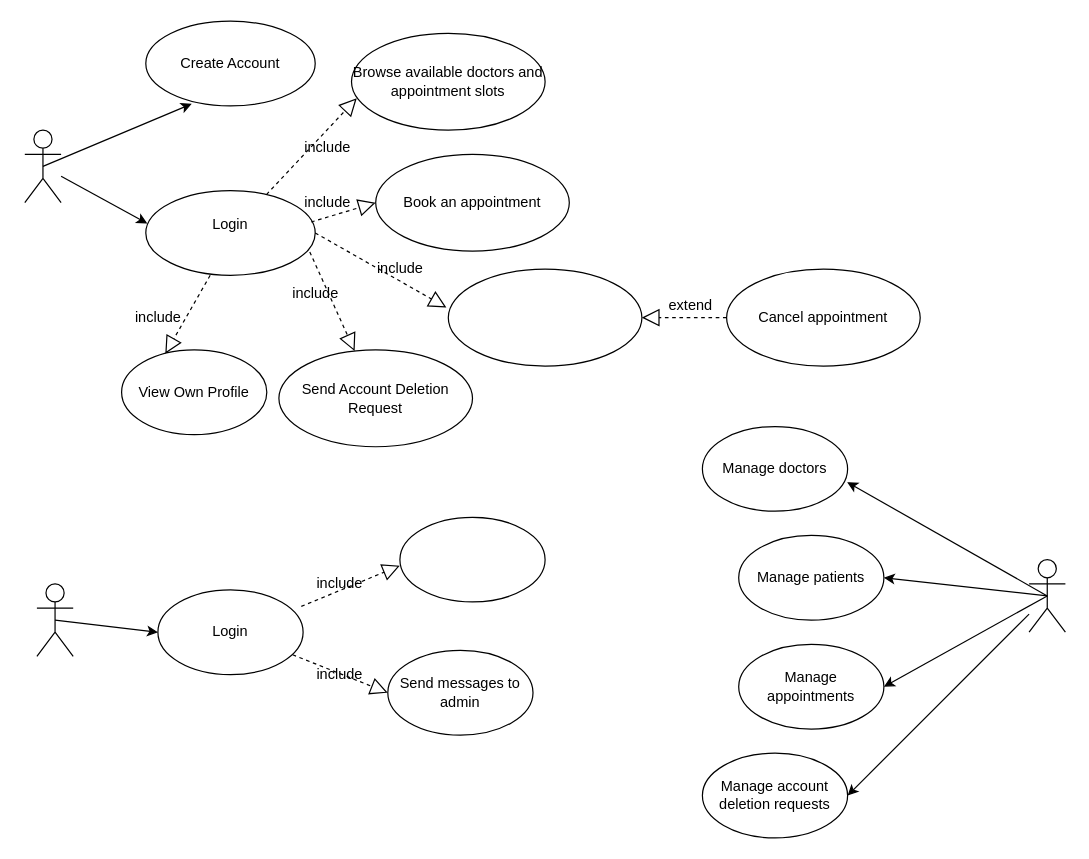
This 1089x859 diagram has some shape labels left out. Here are the shapes that lost their labels. From the top down, the centre of each, then its label:
At (42,166): "Patient".
At (544,317): "View Appointment History".
At (472,559): "View Own Schedule".
At (1046,595): "Admin".
At (54,619): "Doctor".
